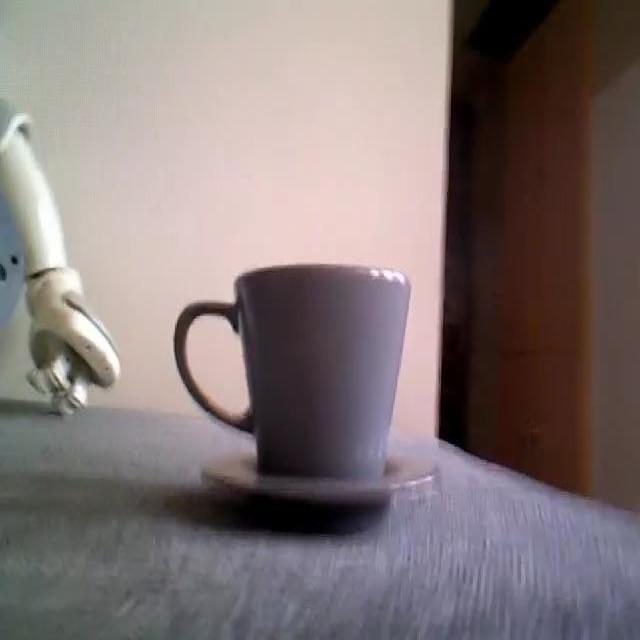cup: (192, 265, 426, 527)
